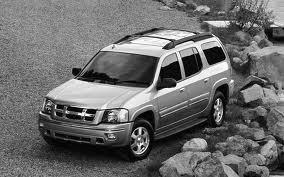car: (36, 24, 237, 163)
